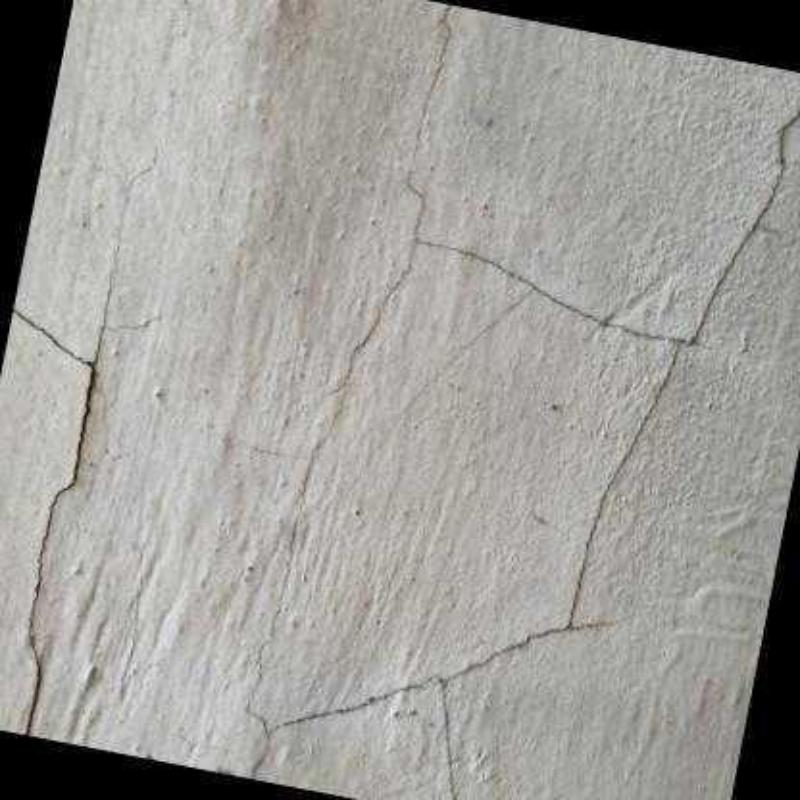pothole: (321, 60, 798, 798), (0, 294, 95, 734), (254, 385, 348, 677), (242, 681, 427, 779), (92, 256, 156, 363)
